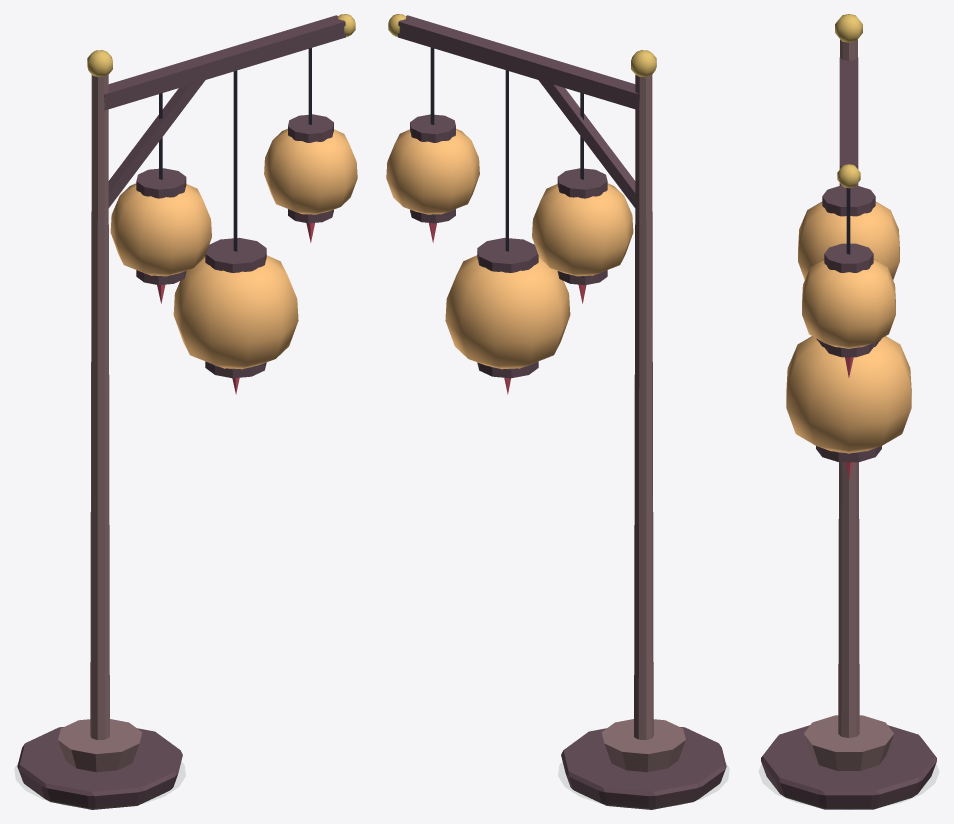
File: paper_lanterns.glb
3 renders of one model, left to right at view 1: azimuth 30°, elevation 25°; view 2: azimuth 150°, elevation 25°; view 3: azimuth 270°, elevation 25°, orthographic. The views are drawn at different scales.
Visible parts, largest first — view 1: paper_lanterns; view 2: paper_lanterns; view 3: paper_lanterns.
Part boxes in pixels (x1,y1,x2,y2): paper_lanterns: [17, 14, 357, 809]; paper_lanterns: [386, 14, 726, 809]; paper_lanterns: [761, 14, 936, 809].
Size of the model in its own units: 0.9685 by 2.05 by 0.44.
